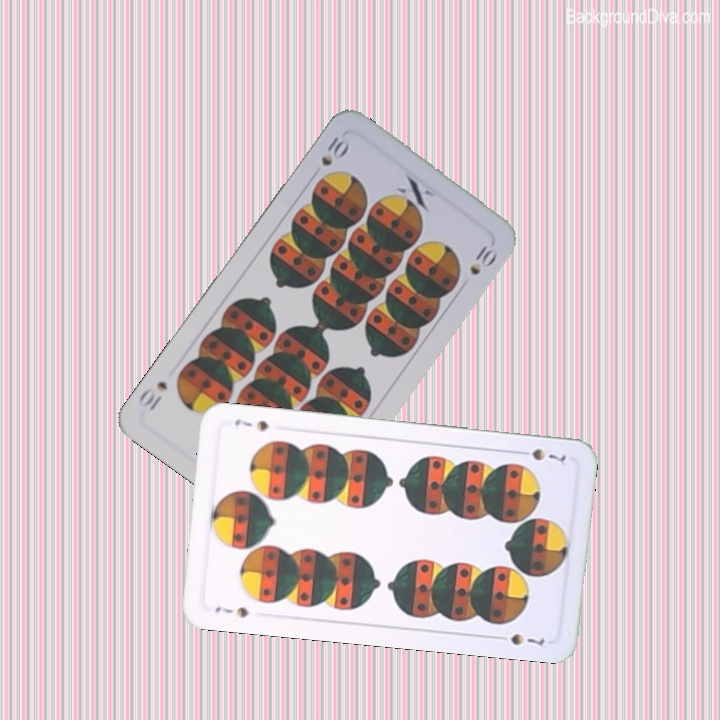S10: (316, 132, 352, 169)
S7: (513, 444, 569, 465), (211, 602, 250, 620)
